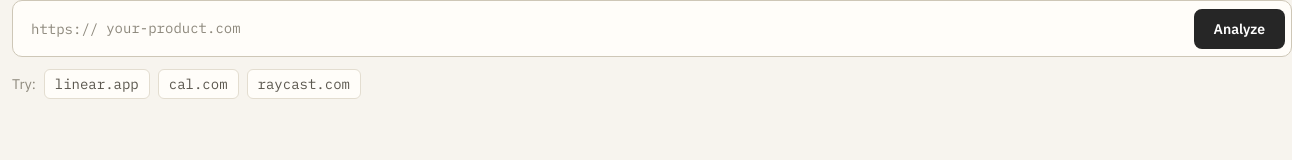
Test: UrlInputForm › shows an inline validation error and does not submit for invalid input
In the field with placeholder "your-product.com": [646, 28] box [106,7,1186,50], type "not a url"
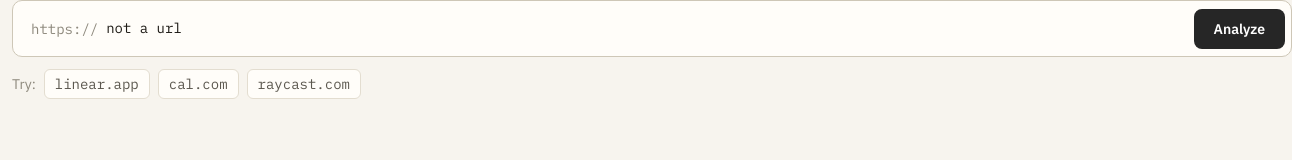
Click the button "Analyze": [1239, 28] box [1194,8,1285,48]
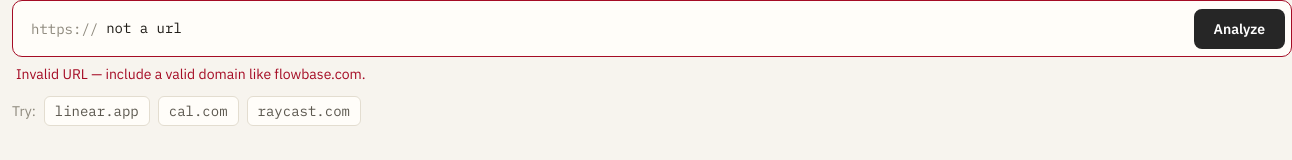
Now the text "Invalid URL — include a valid domain like flowbase.com." is shown, box [16,65,366,83]
